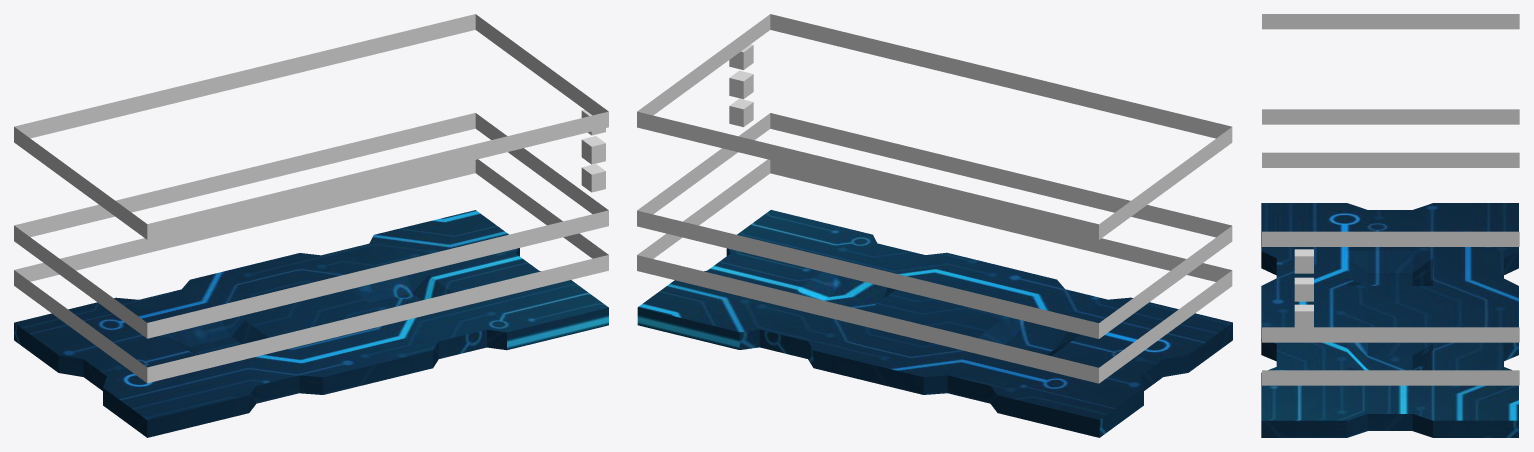
File: HoverTram01.fbx
3 renders of one model, left to right at view 1: azimuth 30°, elevation 25°; view 2: azimuth 150°, elevation 25°; view 3: azimuth 270°, elevation 25°, orthographic. The views are drawn at different scales.
Parts seen in each view (by area): view 1: Cube.013; view 2: Cube.013; view 3: Cube.013.
Part boxes in pixels (x1,y1,x2,y2): Cube.013: (14,14,608,437); Cube.013: (637,14,1232,437); Cube.013: (1261,14,1519,437).
Bounding box in the file's own units: 412 × 200 × 188.
